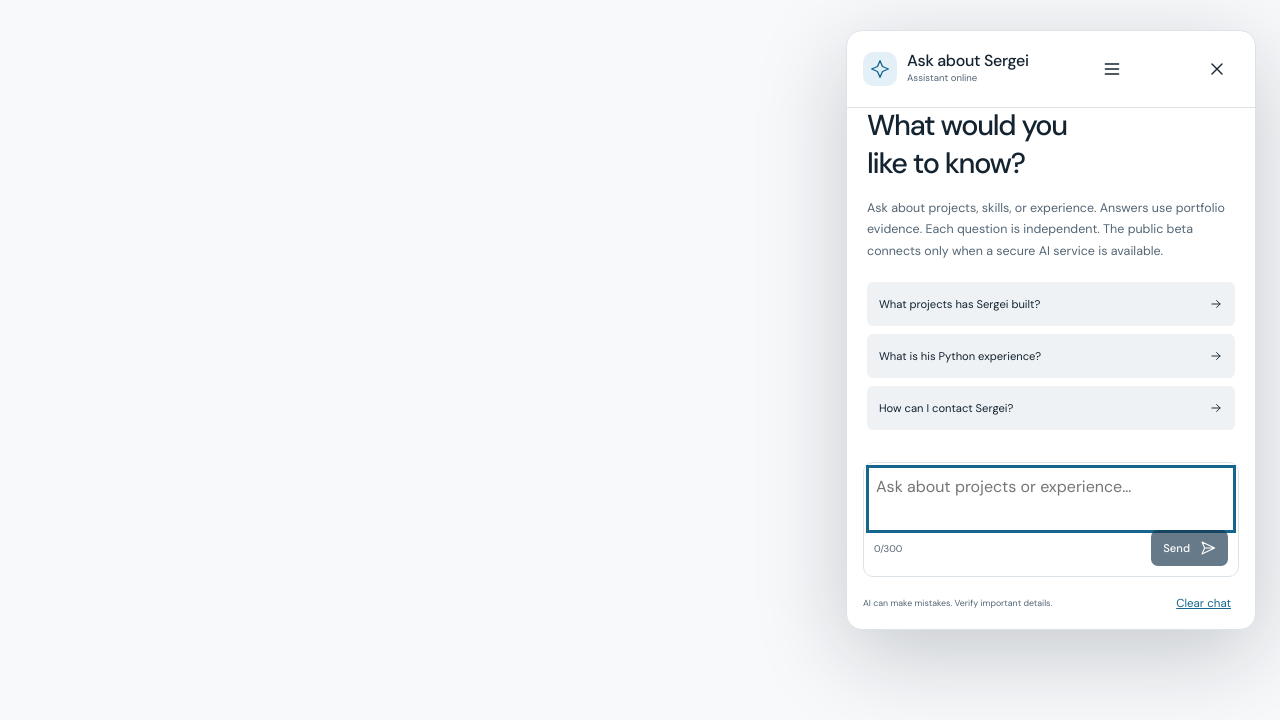
Test: original React chat behavior › stops a pending request without claiming to cancel the model
The width and height of the screenshot is (1280, 720).
(page scrolled)
Type "Explain my work" into the text box named "Your question" at (1051, 499), box [874,473,1228,525]
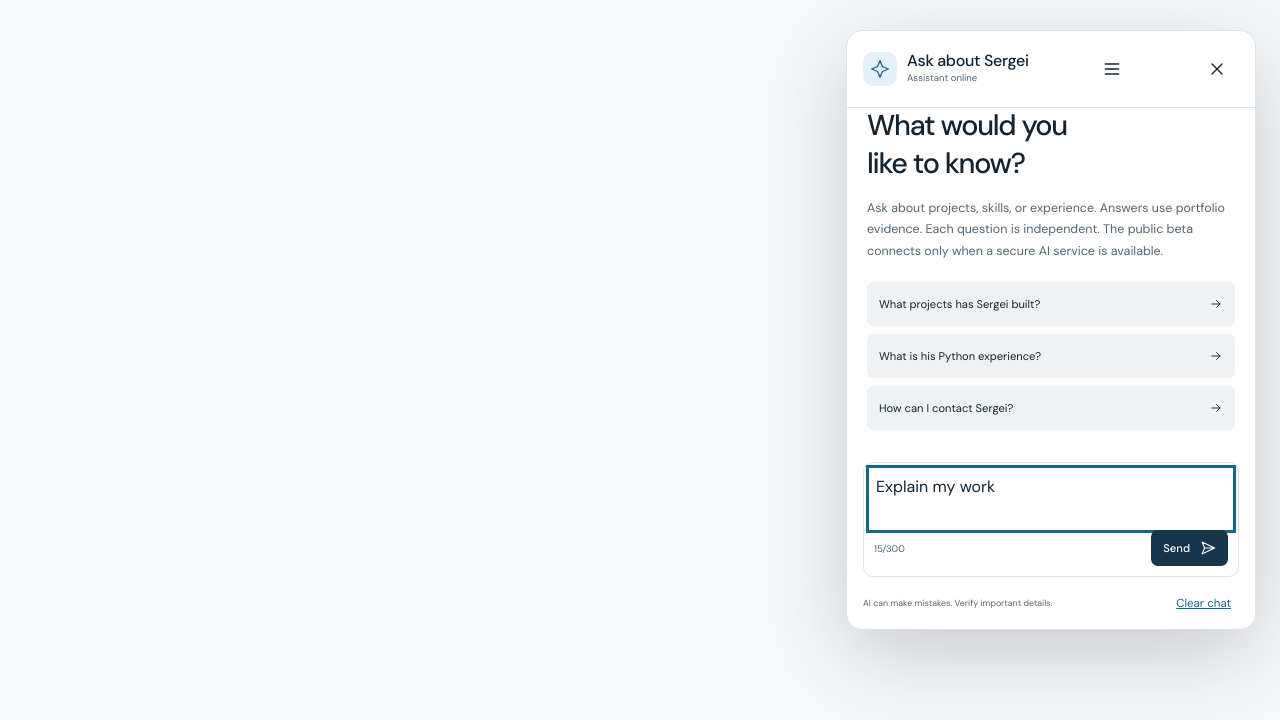
Click the button "Send" at (1190, 548), box [1151,530,1228,566]
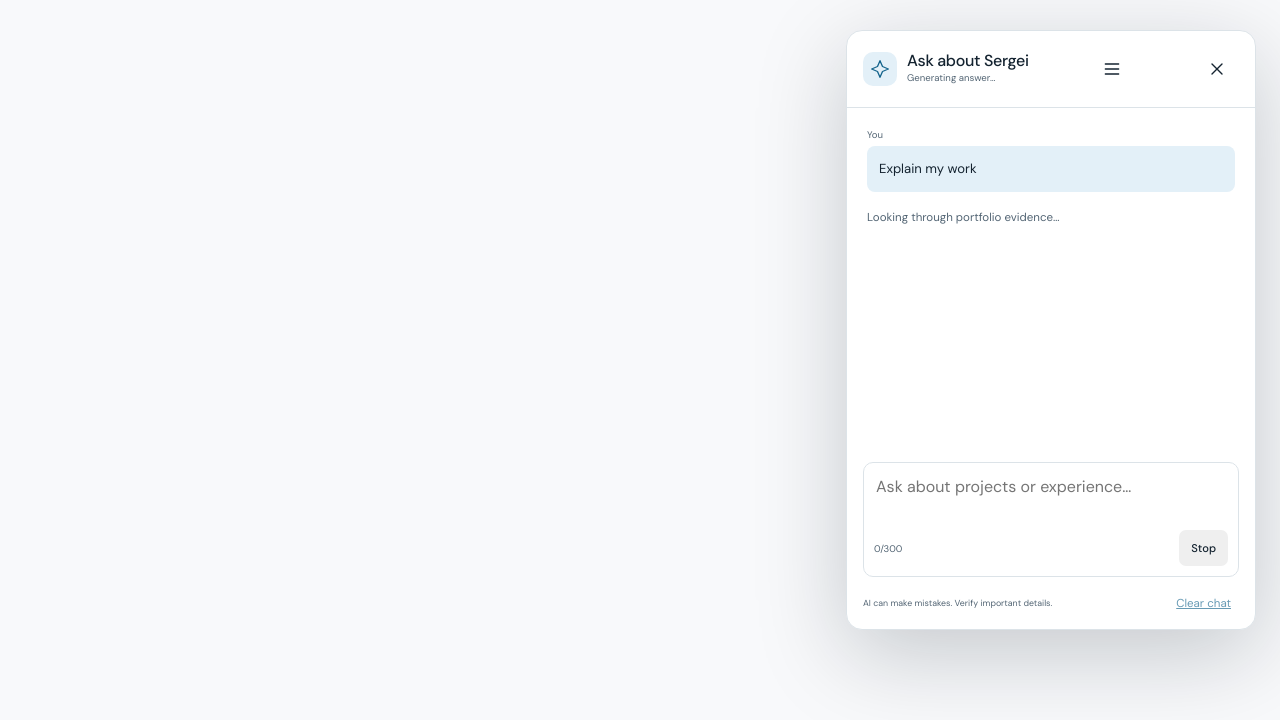
Click the button "Stop" at (1204, 548), box [1179,530,1228,566]
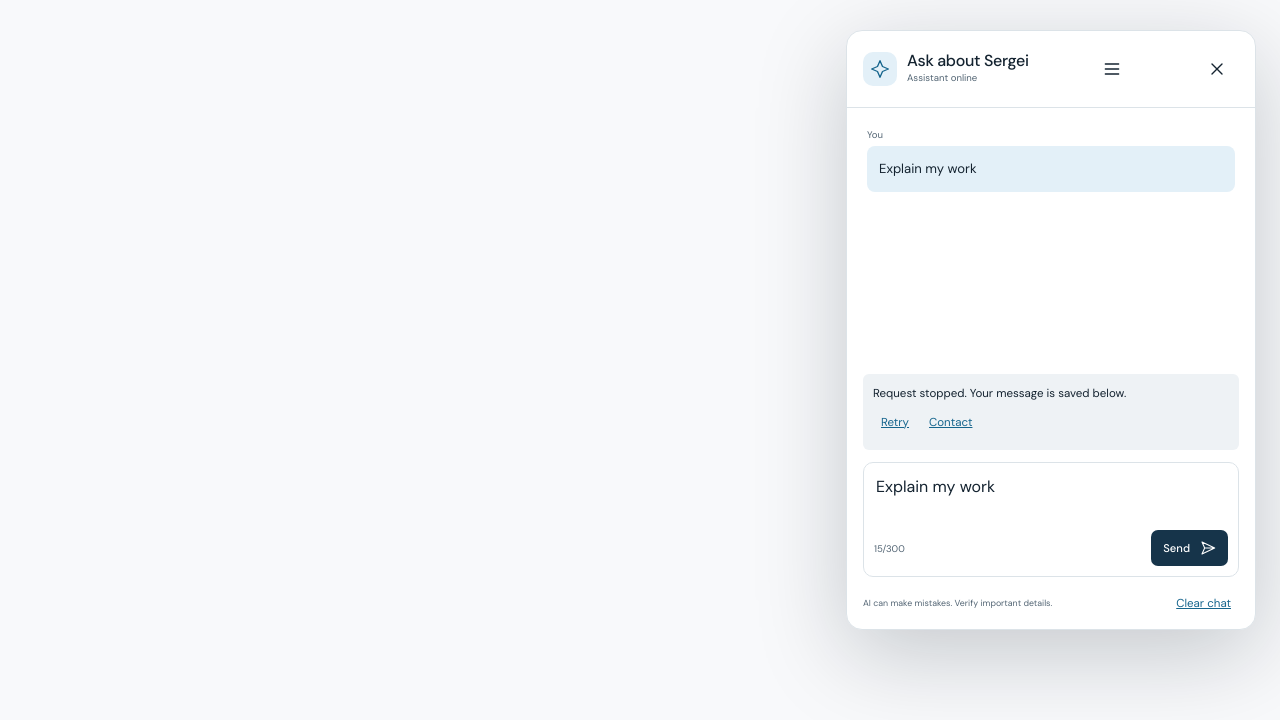
Now the message shows "Request stopped", box [873,386,1126,401]
